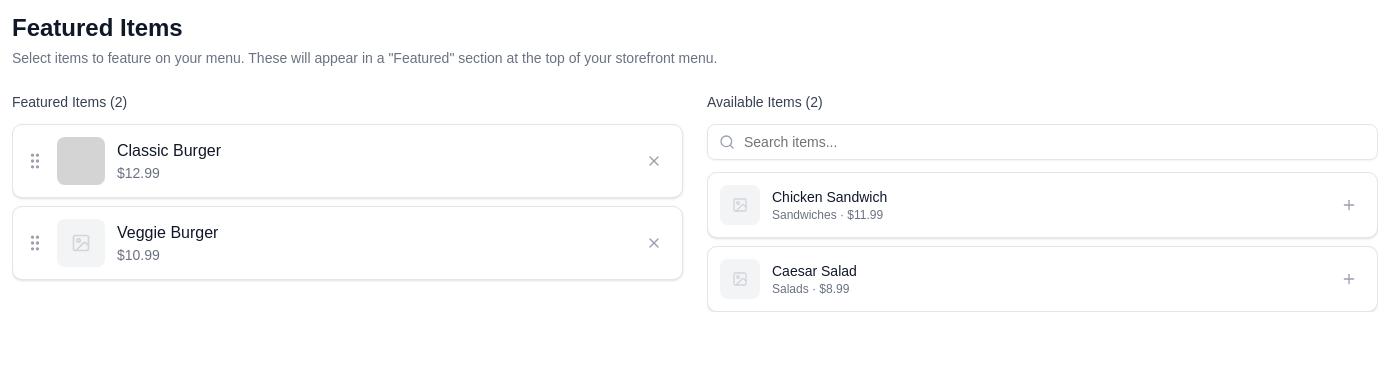
it: FeaturedItemsClient › Add Item Functionality › should optimistically move item from available to selected
What coordinates should you click on to do the following:
click the button without text in the row of "Chicken Sandwich"
I would click on:
 (1349, 205)
Its box is [1333,189,1365,221].
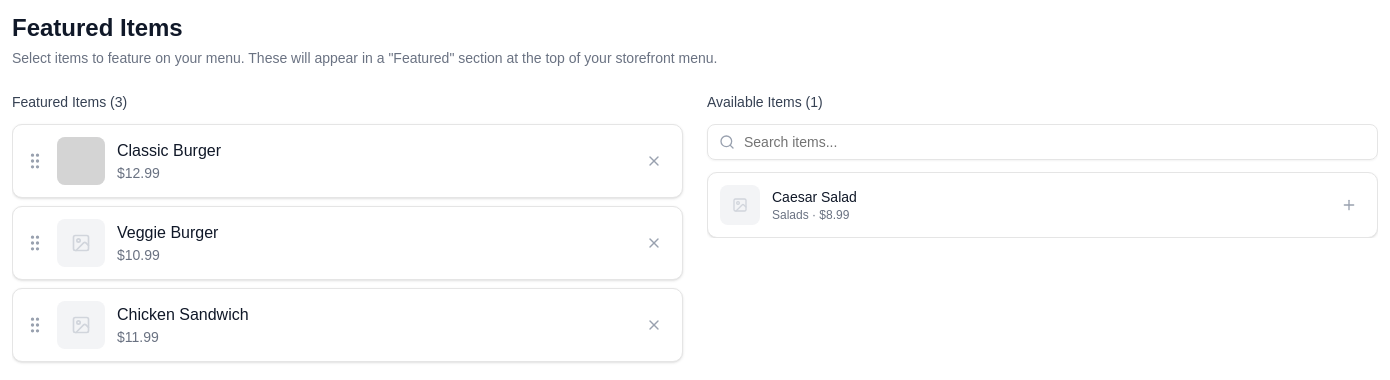
Check: the heading "Featured Items (3)" is shown, box [12,94,127,110]
Check: the heading "Available Items (1)" is shown, box [707,94,823,110]
